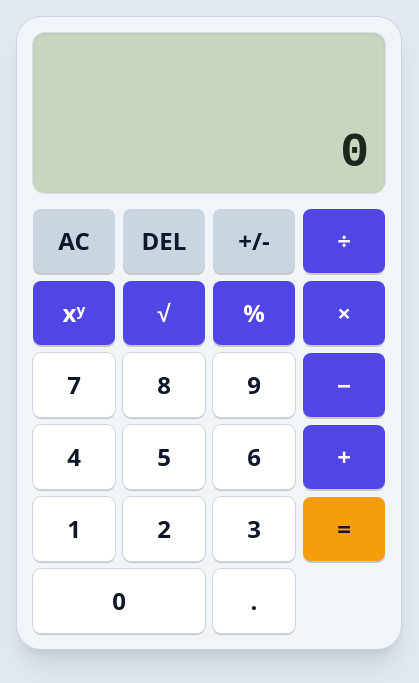
Calculator › shows a rejected API error and clears it when a new digit is typed
Click the button "8": {"x": 164, "y": 385} left=123, top=353, right=205, bottom=417
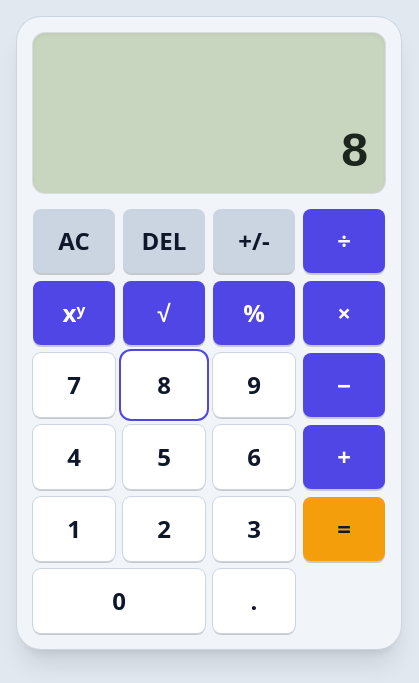
Click the button named "Divide": {"x": 344, "y": 241} left=303, top=209, right=385, bottom=273
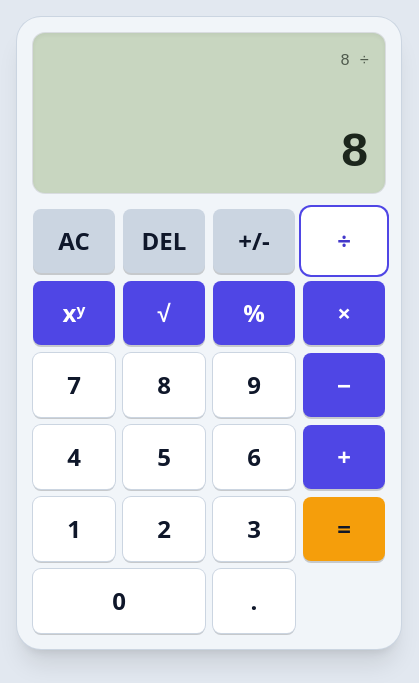
Click the button "0": {"x": 119, "y": 601} left=33, top=569, right=205, bottom=633
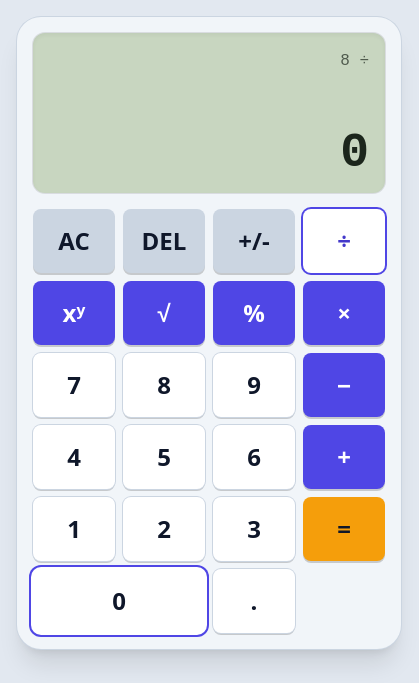
Click the button named "Equals": {"x": 344, "y": 529} left=303, top=497, right=385, bottom=561
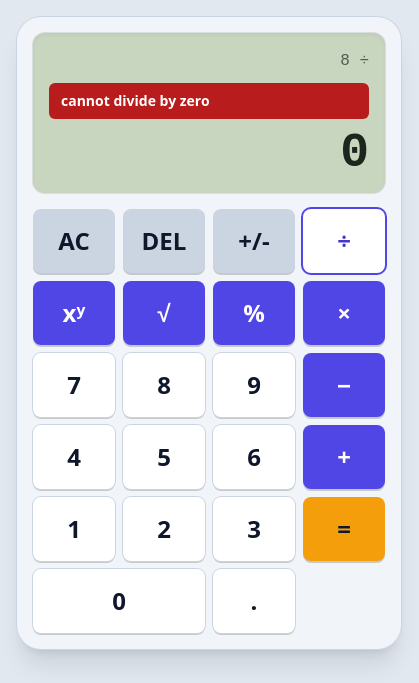
Check: the text "0" is shown, box left=340, top=126, right=369, bottom=180
Check: the message reads "cannot divide by zero", box left=61, top=91, right=210, bottom=110
Type keys "5"
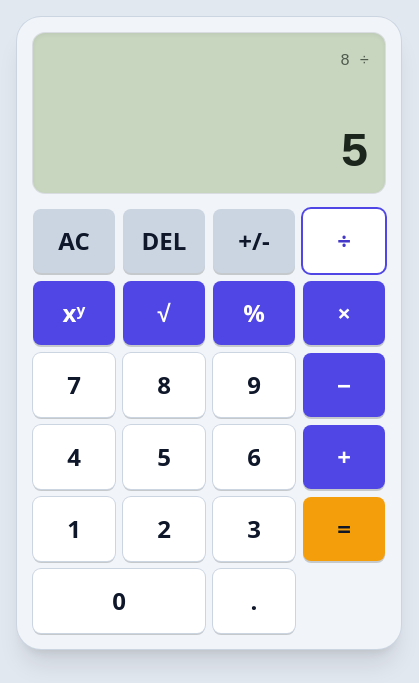
Check: the message "cannot divide by zero" is gone
Check: the text "5" is shown, box left=340, top=126, right=369, bottom=180
